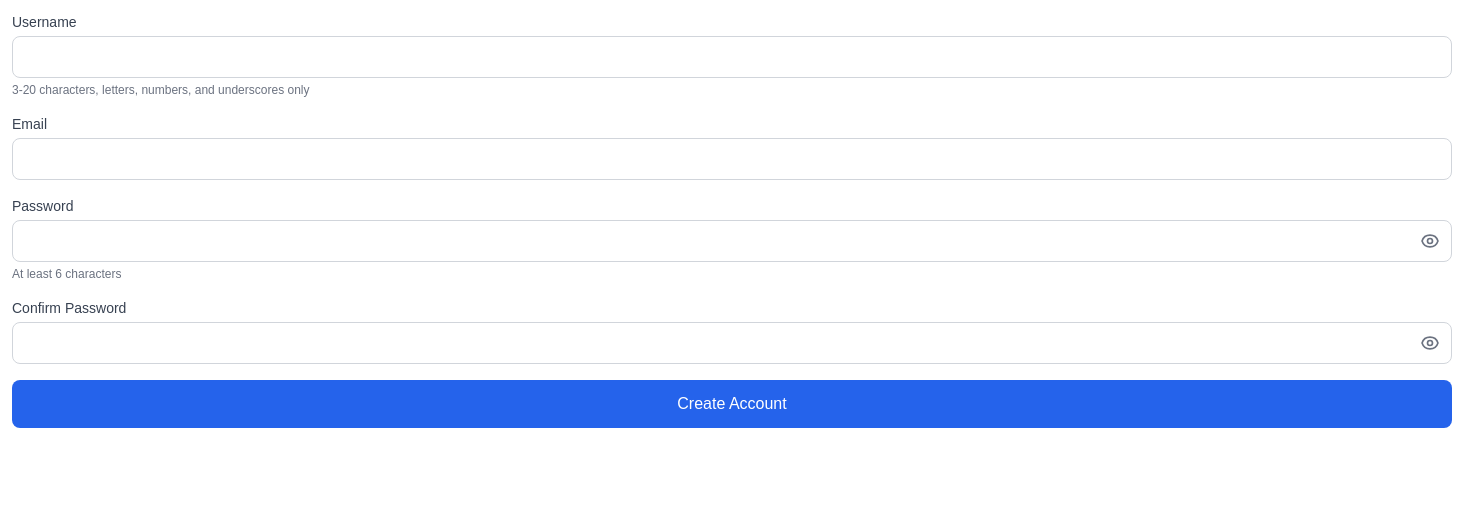
Test: SignupForm › validates username format
In the field labelled "Username": [732, 57] box [12,36,1452,78], type "user@name"
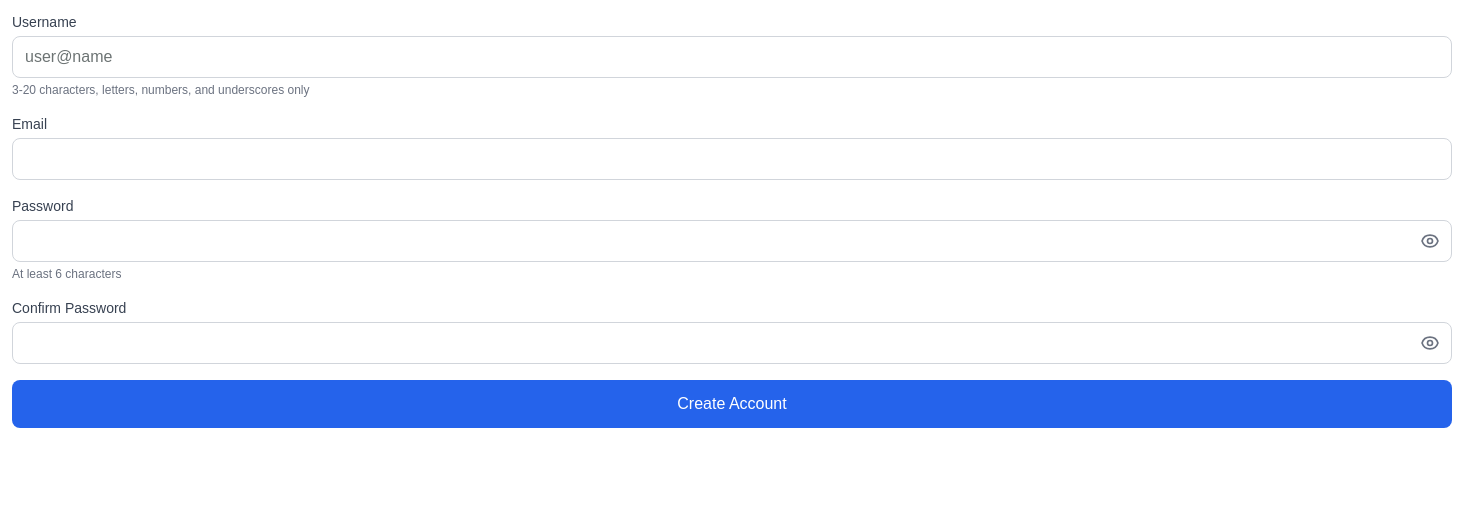
In the field labelled "Email": [732, 159] box [12,138,1452,180], type "test@example.com"
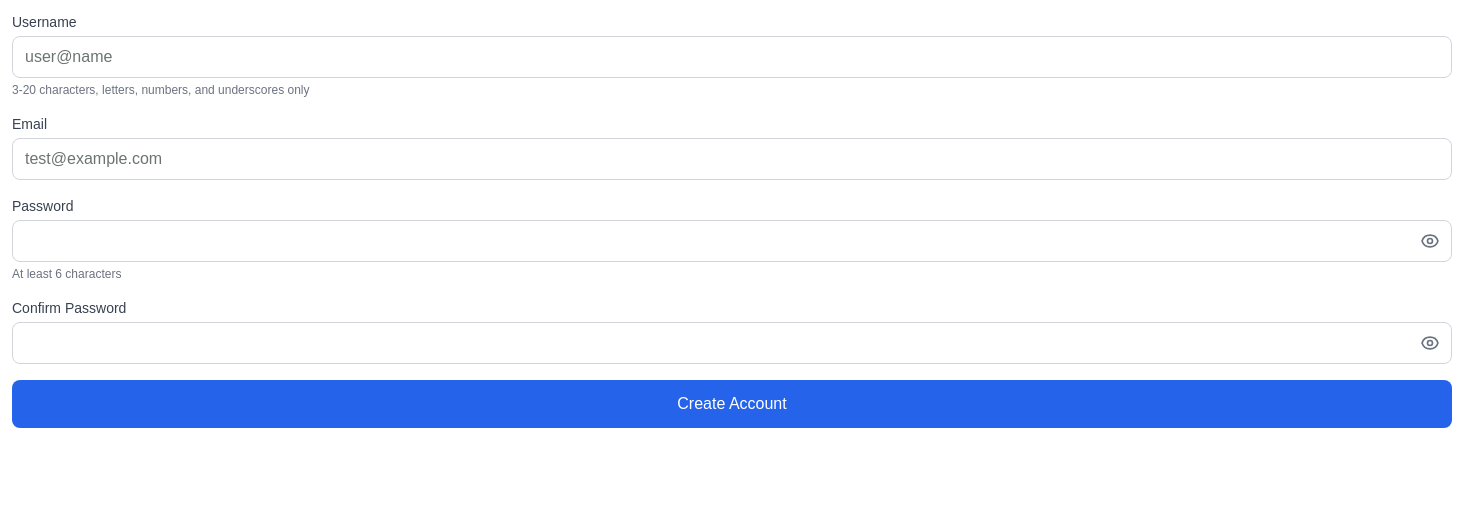
In the password field labelled "Password": [732, 241] box [12,220,1452,262], type "password123"
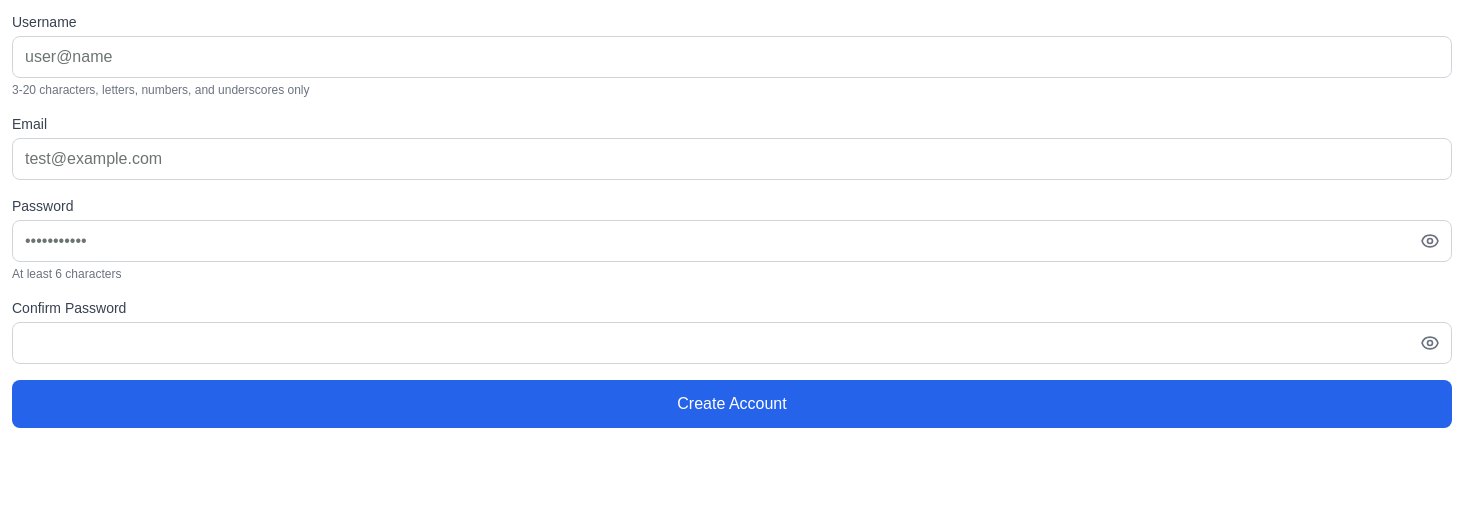
In the password field labelled "Confirm Password": [732, 343] box [12,322,1452,364], type "password123"
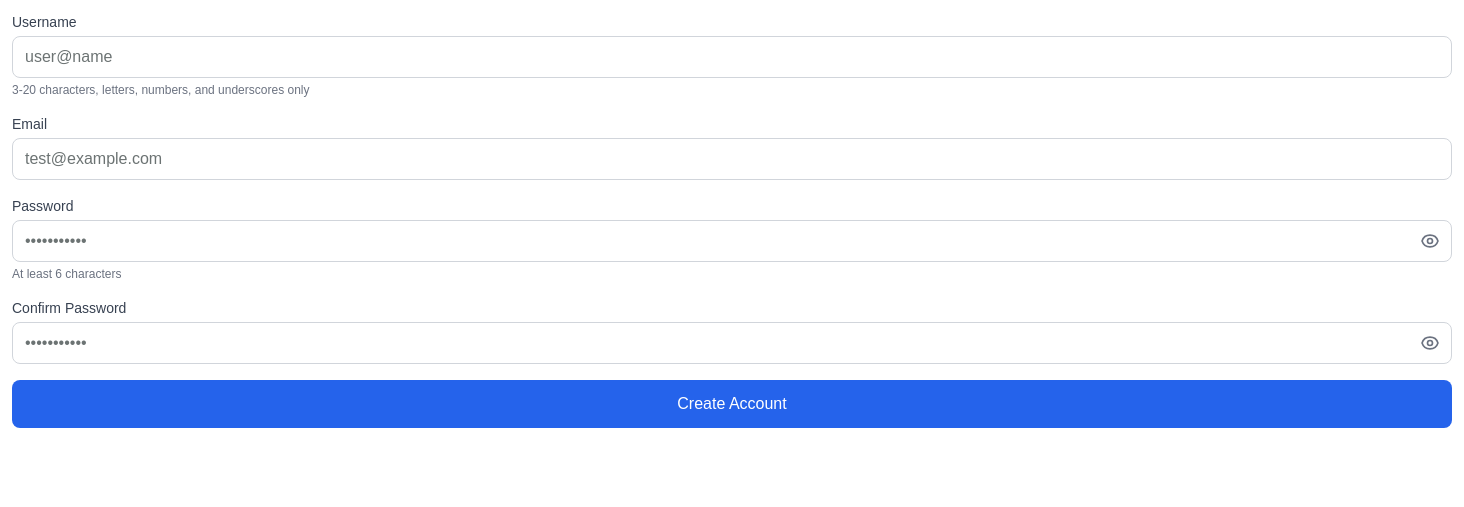
Click the button "Create Account": [732, 404] box [12,380,1452,428]
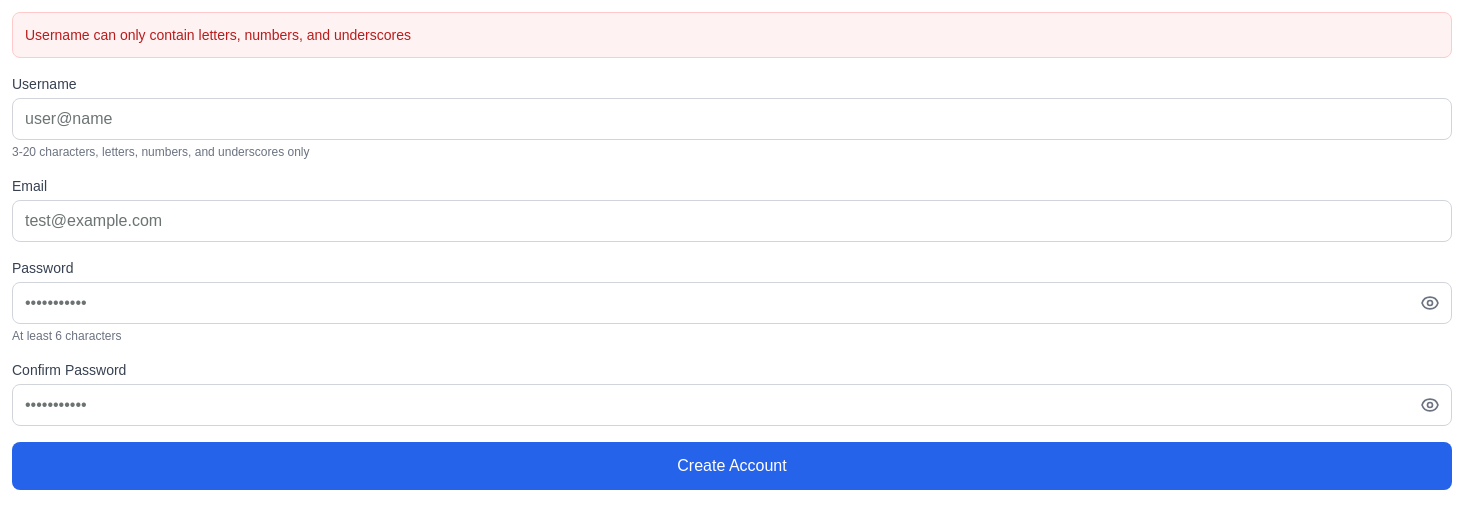
Expected: the text "Username can only contain letters, numbers, and underscores" is shown, [12,12,1452,58]
